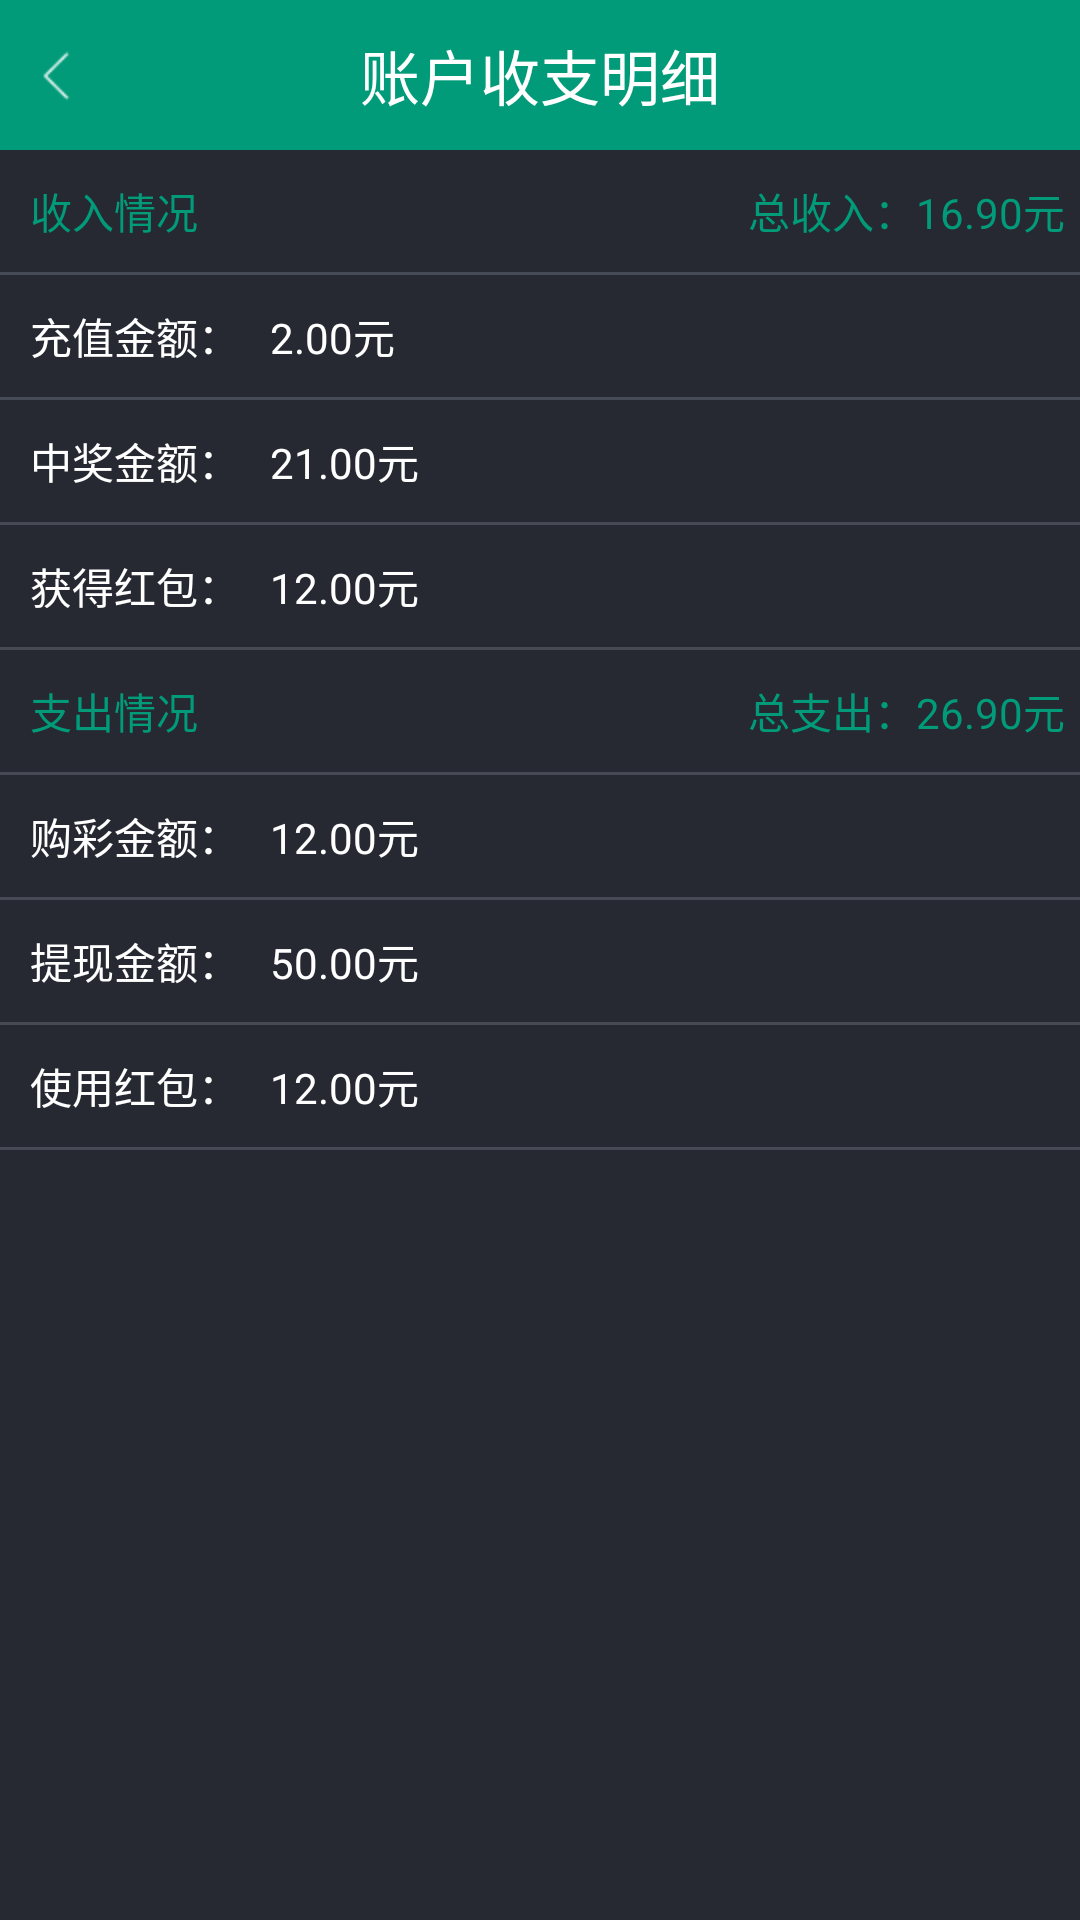

Icons on this 1080 x 1920 Android screen, each with the point to tap as (x=x, y=y):
back: (x=56, y=76)
